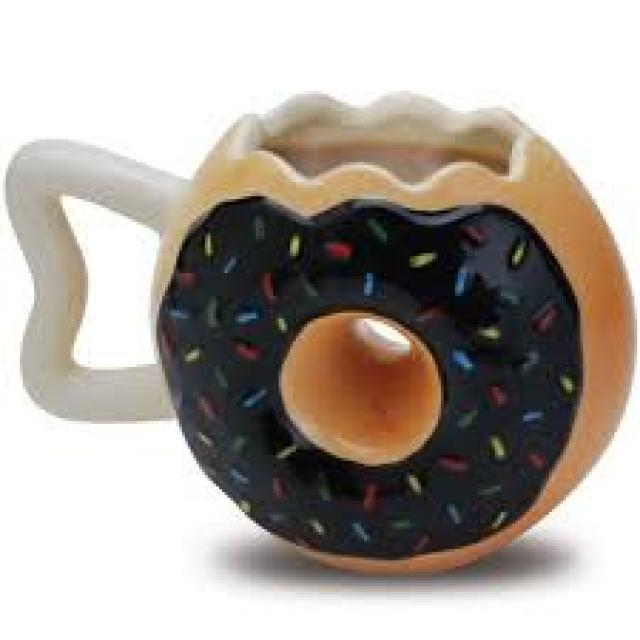taza: (7, 73, 638, 577)
